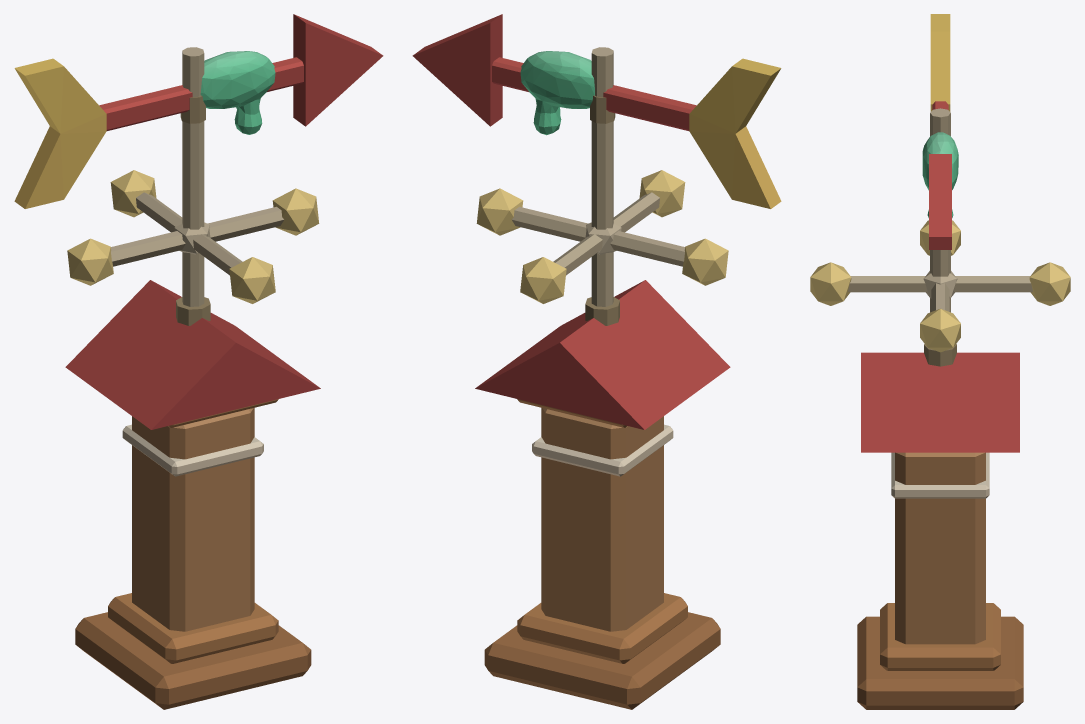
Rendered from ranch_weathervane.fbx.
3 renders of one model, left to right at view 1: azimuth 30°, elevation 25°; view 2: azimuth 150°, elevation 25°; view 3: azimuth 270°, elevation 25°, orthographic. The views are drawn at different scales.
Visible parts, largest first — view 1: ranch_weathervane; view 2: ranch_weathervane; view 3: ranch_weathervane.
Boxes of the visible parts, left/top/right/bottom form: ranch_weathervane: left=14, top=14, right=383, bottom=709; ranch_weathervane: left=412, top=14, right=781, bottom=709; ranch_weathervane: left=810, top=14, right=1070, bottom=709.
Size of the model in its own units: 5.05 by 8.56 by 3.44.
